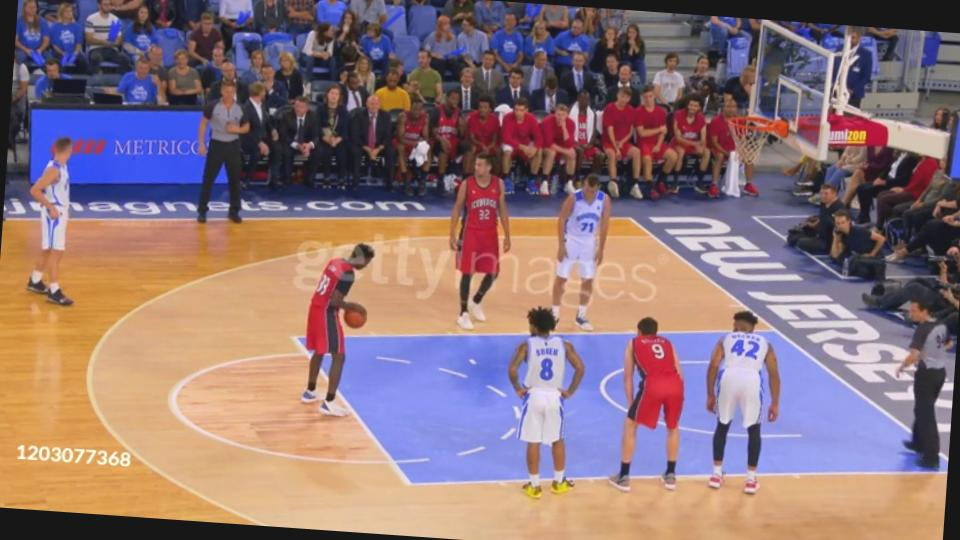hoop: (726, 110, 794, 142)
